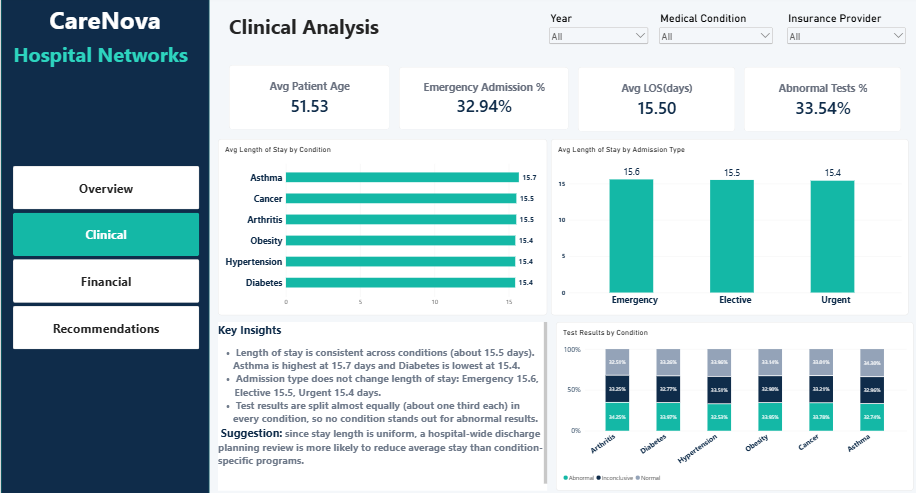

This screenshot's page, from the dashboard's own definition file:
{"tool":"powerbi","page":{"name":"Clinical","canvas":[2200,1200],"ordinal":1},"visuals":[{"type":"cardVisual","fields":{"Data":["measures (2).Avg Patient Age"]},"box":[547.5,165,385,155],"z":0},{"type":"cardVisual","fields":{"Data":["measures (2).Emergency Admission %"]},"box":[955,170,407.5,150],"z":1000},{"type":"cardVisual","fields":{"Data":["measures (2).Avg LOS(days)"]},"box":[1385,170,377.5,155],"z":2000},{"type":"cardVisual","fields":{"Data":["measures (2).Abnormal Tests %"]},"box":[1782.5,170,377.5,155],"z":3000},{"type":"slicer","fields":{"Values":["dim_date.Year"]},"box":[1310,37.5,247.5,167.5],"z":4000},{"type":"slicer","fields":{"Values":["dim_condition.Medical Condition"]},"box":[1575,37.5,282.5,167.5],"z":5000},{"type":"slicer","fields":{"Values":["dim_insurance.Insurance Provider"]},"box":[1882.5,37.5,295,167.5],"z":6000},{"type":"shape","box":[0,0,500,1200],"z":7000},{"type":"textbox","box":[0,17.5,500,87.5],"z":8000},{"type":"textbox","box":[0,105,477.5,65],"z":9000},{"type":"textbox","box":[547.5,37.5,502.5,67.5],"z":10000},{"type":"clusteredBarChart","title":"Avg Length of Stay by Condition","fields":{"Category":["dim_condition.Medical Condition"],"Y":["measures (2).Avg LOS(days)"]},"box":[520,342.5,790,422.5],"z":11000},{"type":"clusteredColumnChart","title":"Avg Length of Stay by Admission Type","fields":{"Category":["dim_admission_type.Admission Type"],"Y":["measures (2).Avg LOS(days)"]},"box":[1320,342.5,857.5,422.5],"z":12000},{"type":"hundredPercentStackedColumnChart","title":"Test Results by Condition","fields":{"Category":["dim_condition.Medical Condition"],"Series":["fact_admissions.Test Results"],"Y":["measures (2).Total Admissions"]},"box":[1332.5,782.5,857.5,405],"z":13000},{"type":"textbox","box":[520,782.5,790,405],"z":14000},{"type":"pageNavigator","box":[28.9,407.9,447.4,442.1],"z":15000}]}

Visuals, with their boxes in screenshot pixels (x1, y1, x2, y2), scaled from the page's 2200x1200 canvas onto the 916x493 screenshot:
cardVisual - measures (2).Avg Patient Age: bbox(228, 68, 388, 131)
cardVisual - measures (2).Emergency Admission %: bbox(398, 70, 567, 131)
cardVisual - measures (2).Avg LOS(days): bbox(577, 70, 734, 134)
cardVisual - measures (2).Abnormal Tests %: bbox(742, 70, 899, 134)
slicer - dim_date.Year: bbox(545, 15, 648, 84)
slicer - dim_condition.Medical Condition: bbox(656, 15, 773, 84)
slicer - dim_insurance.Insurance Provider: bbox(784, 15, 907, 84)
shape: bbox(0, 0, 208, 492)
textbox: bbox(0, 7, 208, 43)
textbox: bbox(0, 43, 199, 70)
textbox: bbox(228, 15, 437, 43)
"Avg Length of Stay by Condition" clusteredBarChart: bbox(217, 141, 545, 314)
"Avg Length of Stay by Admission Type" clusteredColumnChart: bbox(550, 141, 907, 314)
"Test Results by Condition" hundredPercentStackedColumnChart: bbox(555, 321, 912, 488)
textbox: bbox(217, 321, 545, 488)
pageNavigator: bbox(12, 168, 198, 349)
